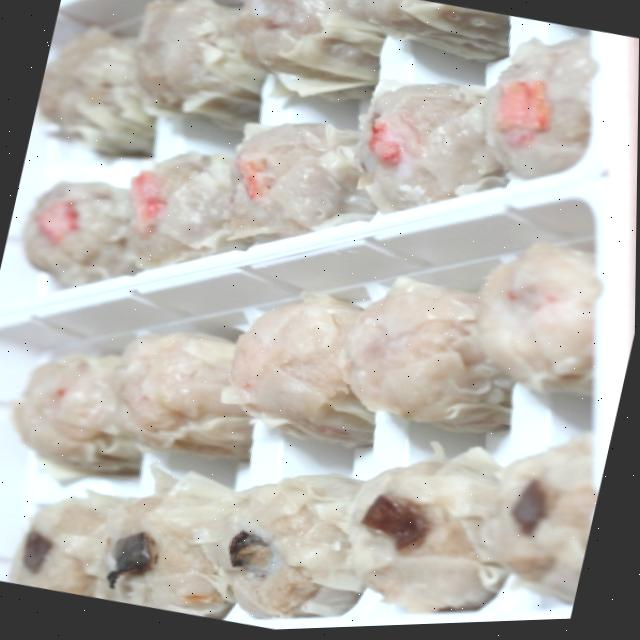带馅早点: (193, 245, 513, 495)
